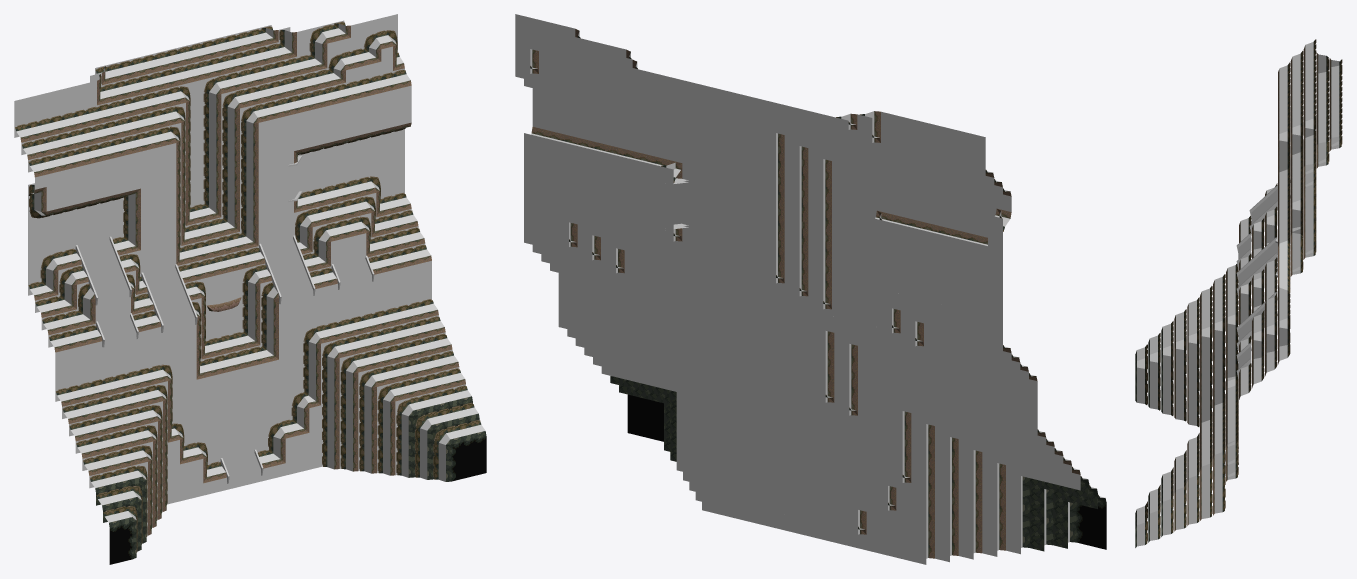
Rendered from Victory-Road-1_01_03.obj.
The picture shows the model from 3 angles, left to right: view 1: azimuth 30°, elevation 25°; view 2: azimuth 150°, elevation 25°; view 3: azimuth 270°, elevation 25°; orthographic projection. The views are drawn at different scales.
Parts seen in each view (by area): view 1: map; view 2: map; view 3: map.
Boxes of the visible parts, left/top/right/bottom form: map: left=14, top=14, right=486, bottom=564; map: left=515, top=14, right=1106, bottom=564; map: left=1135, top=39, right=1342, bottom=547.
Bounding box in the file's own units: 32 × 32 × 16.
